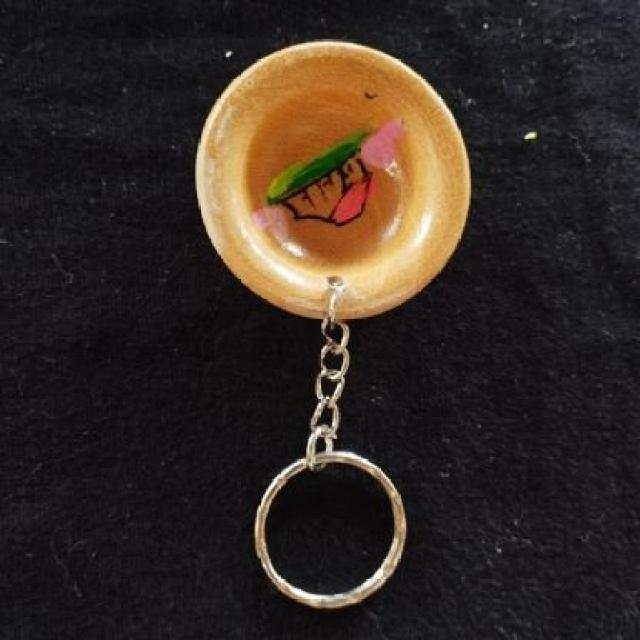Llavero: (194, 40, 472, 323)
